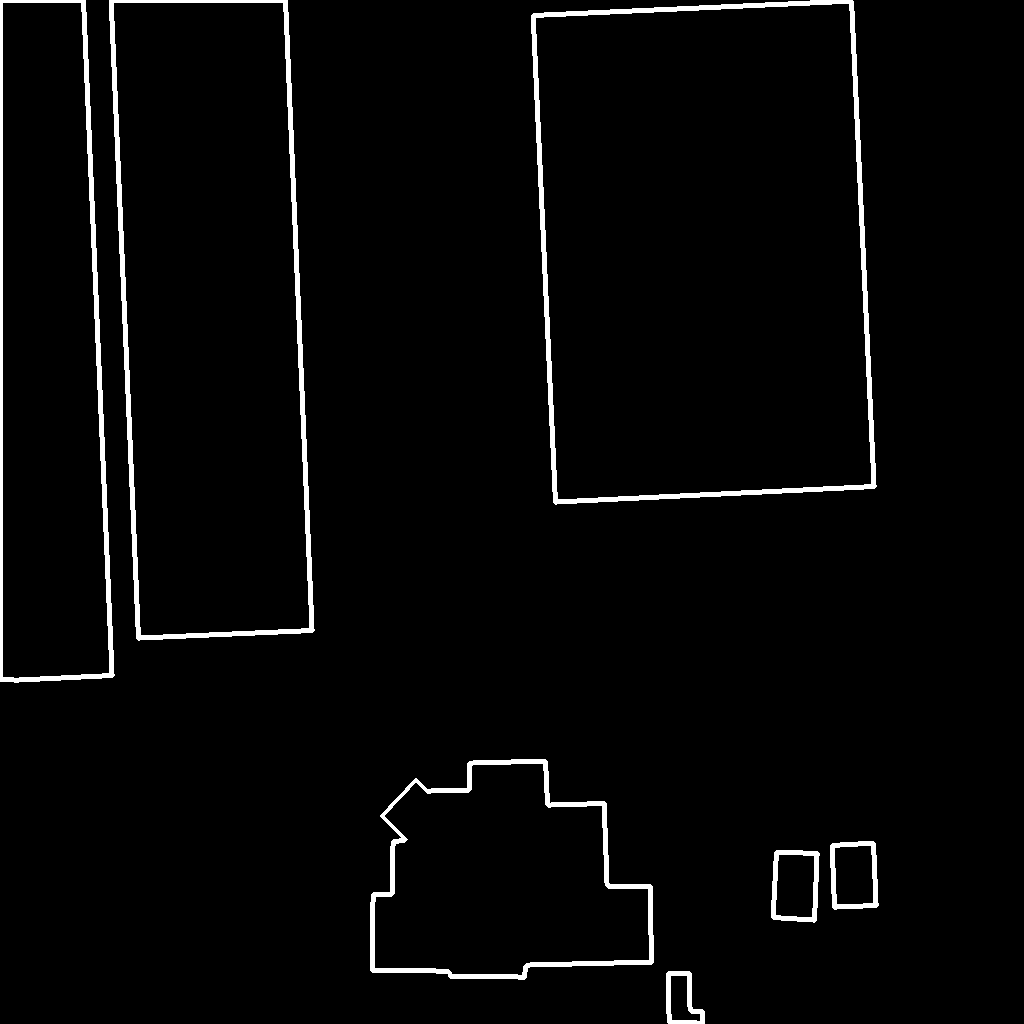building: (533, 1, 875, 503), (111, 0, 313, 639), (0, 0, 113, 681), (372, 761, 653, 978), (773, 852, 818, 921), (832, 843, 877, 908), (668, 973, 704, 1024)
